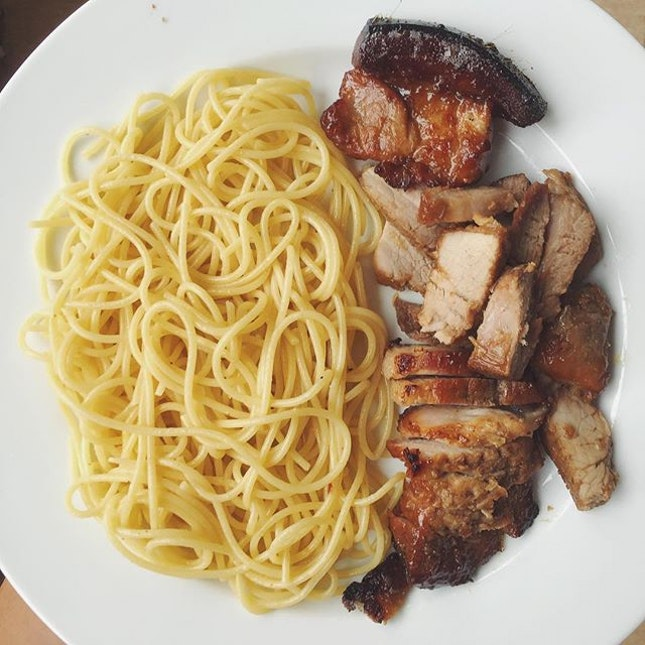plain spaghetti: (85, 135, 335, 570)
